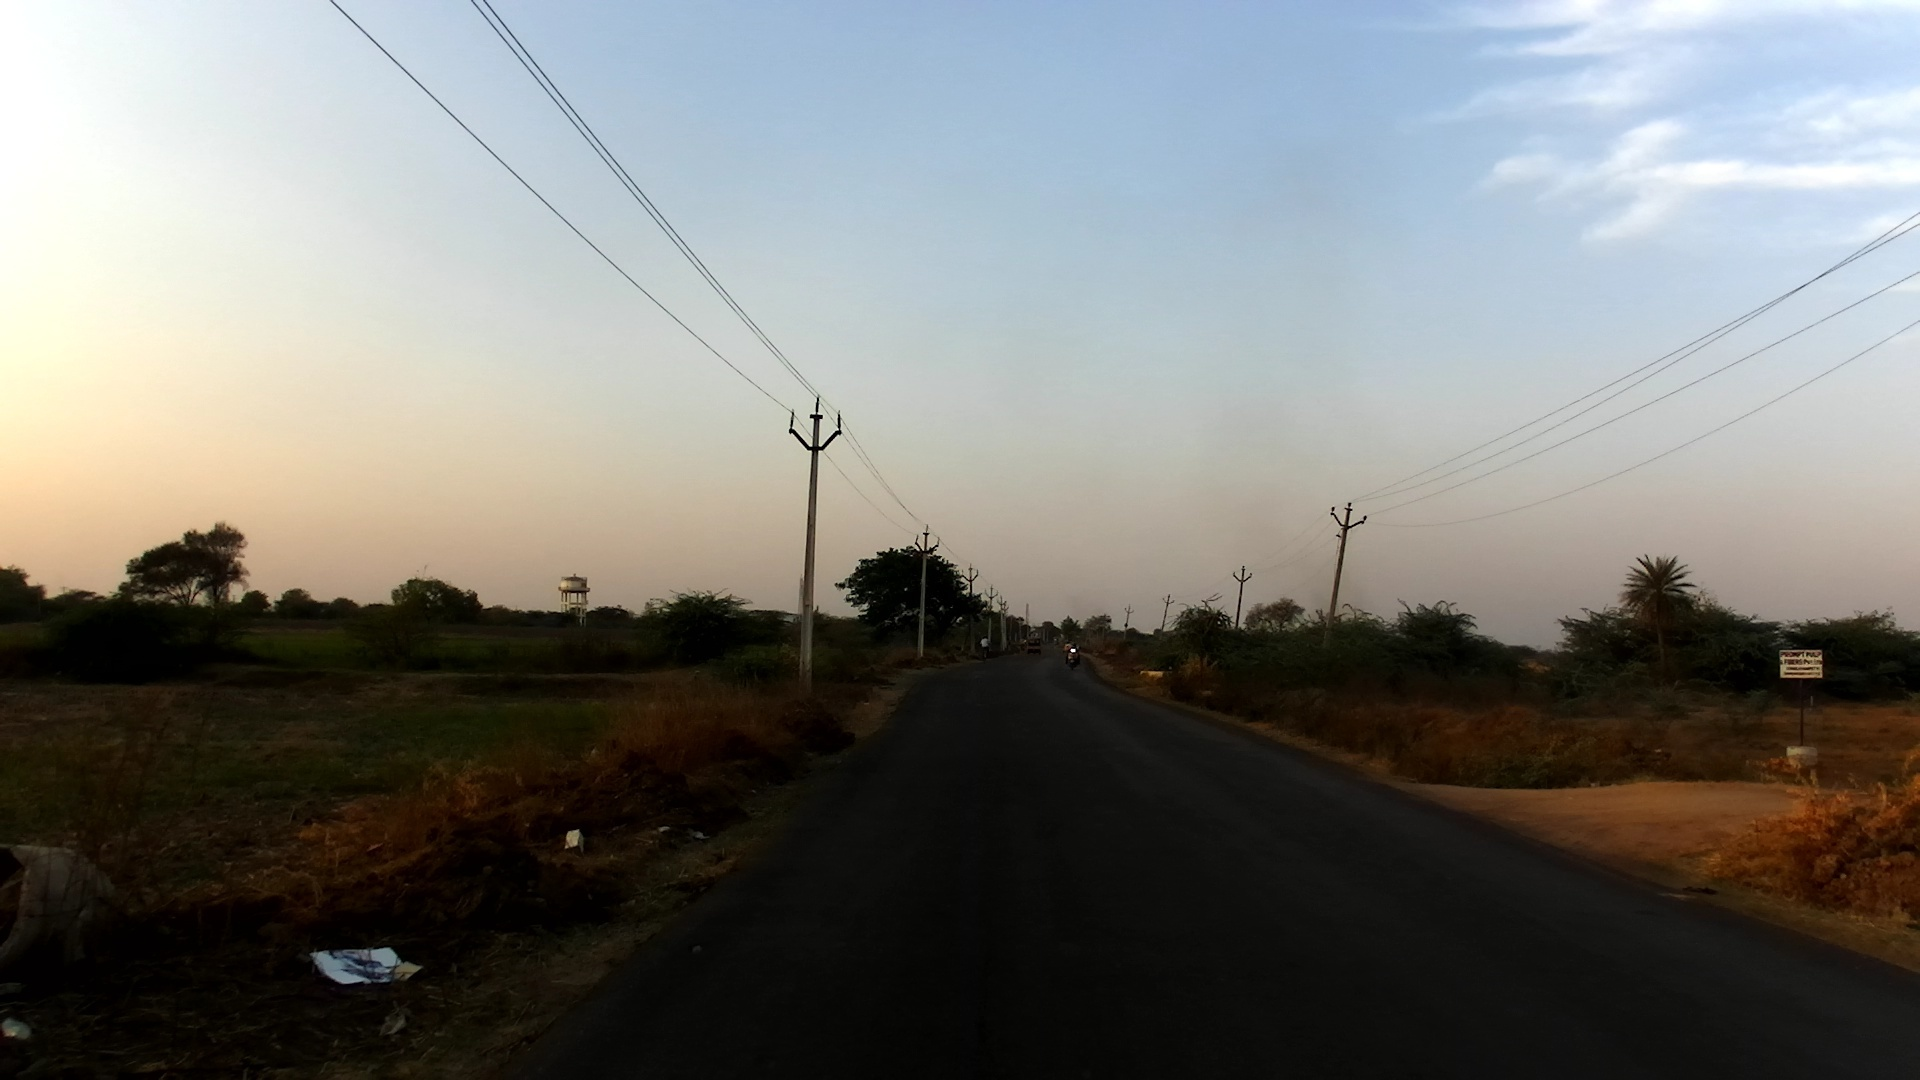bicycle: (980, 641, 987, 662)
car: (1025, 633, 1043, 652)
motorcycle: (1067, 647, 1082, 669)
rider: (1066, 641, 1084, 666), (978, 638, 992, 656)
vehicle fallback: (1052, 637, 1061, 647), (1065, 641, 1073, 653)
